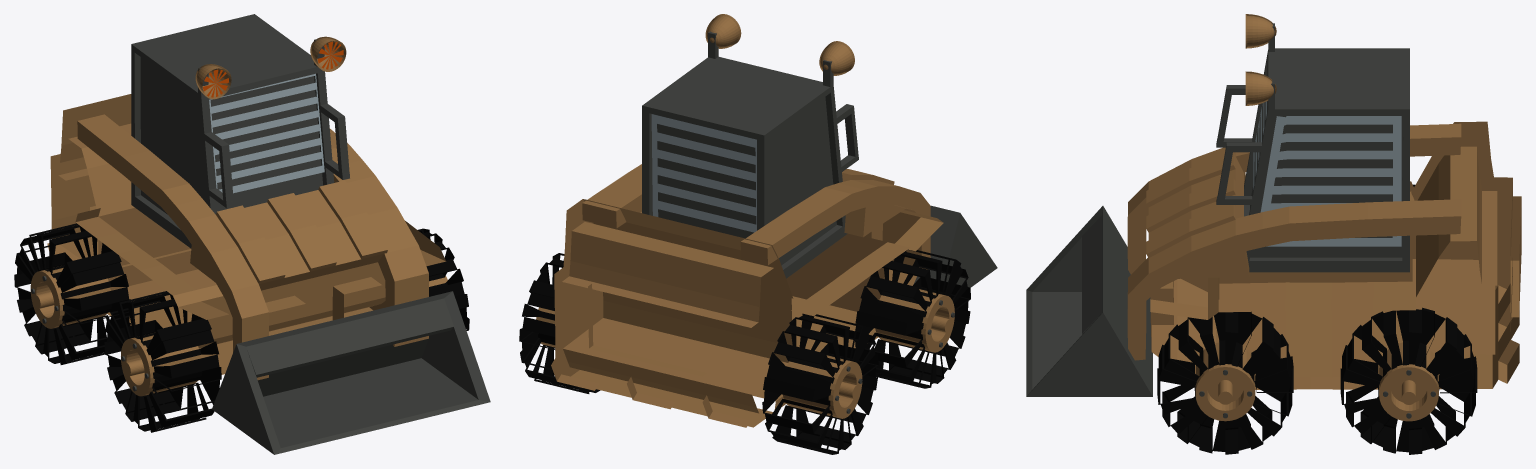
Rendered from Engineers.glb.
The picture shows the model from 3 angles, left to right: view 1: azimuth 30°, elevation 25°; view 2: azimuth 150°, elevation 25°; view 3: azimuth 270°, elevation 25°; orthographic projection. The views are drawn at different scales.
Visible parts, largest first — view 1: Plane; view 2: Plane; view 3: Plane.
Boxes of the visible parts, box(x1,y1,x2,y2) form: Plane: box(14, 14, 490, 454); Plane: box(519, 14, 997, 454); Plane: box(1026, 14, 1521, 454).
Size of the model in its own units: 1.43 by 1.42 by 1.9.
